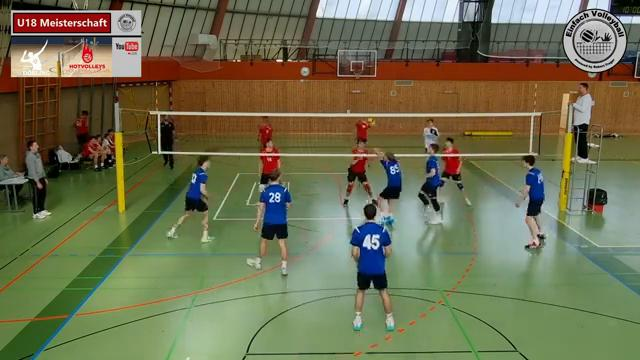Player: (350, 204, 394, 330), (247, 169, 291, 275), (167, 156, 213, 242), (516, 155, 545, 248), (343, 140, 376, 205), (418, 143, 442, 224), (259, 139, 280, 191), (423, 119, 438, 151), (258, 116, 272, 148), (356, 118, 373, 142), (442, 137, 459, 154)
Set: (370, 141, 403, 226)
ball: (366, 117, 376, 127)
